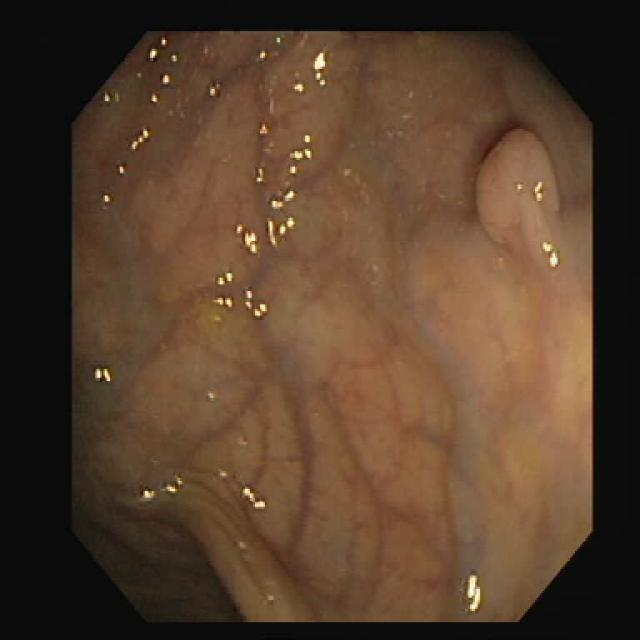tumor: (477, 129, 558, 267)
